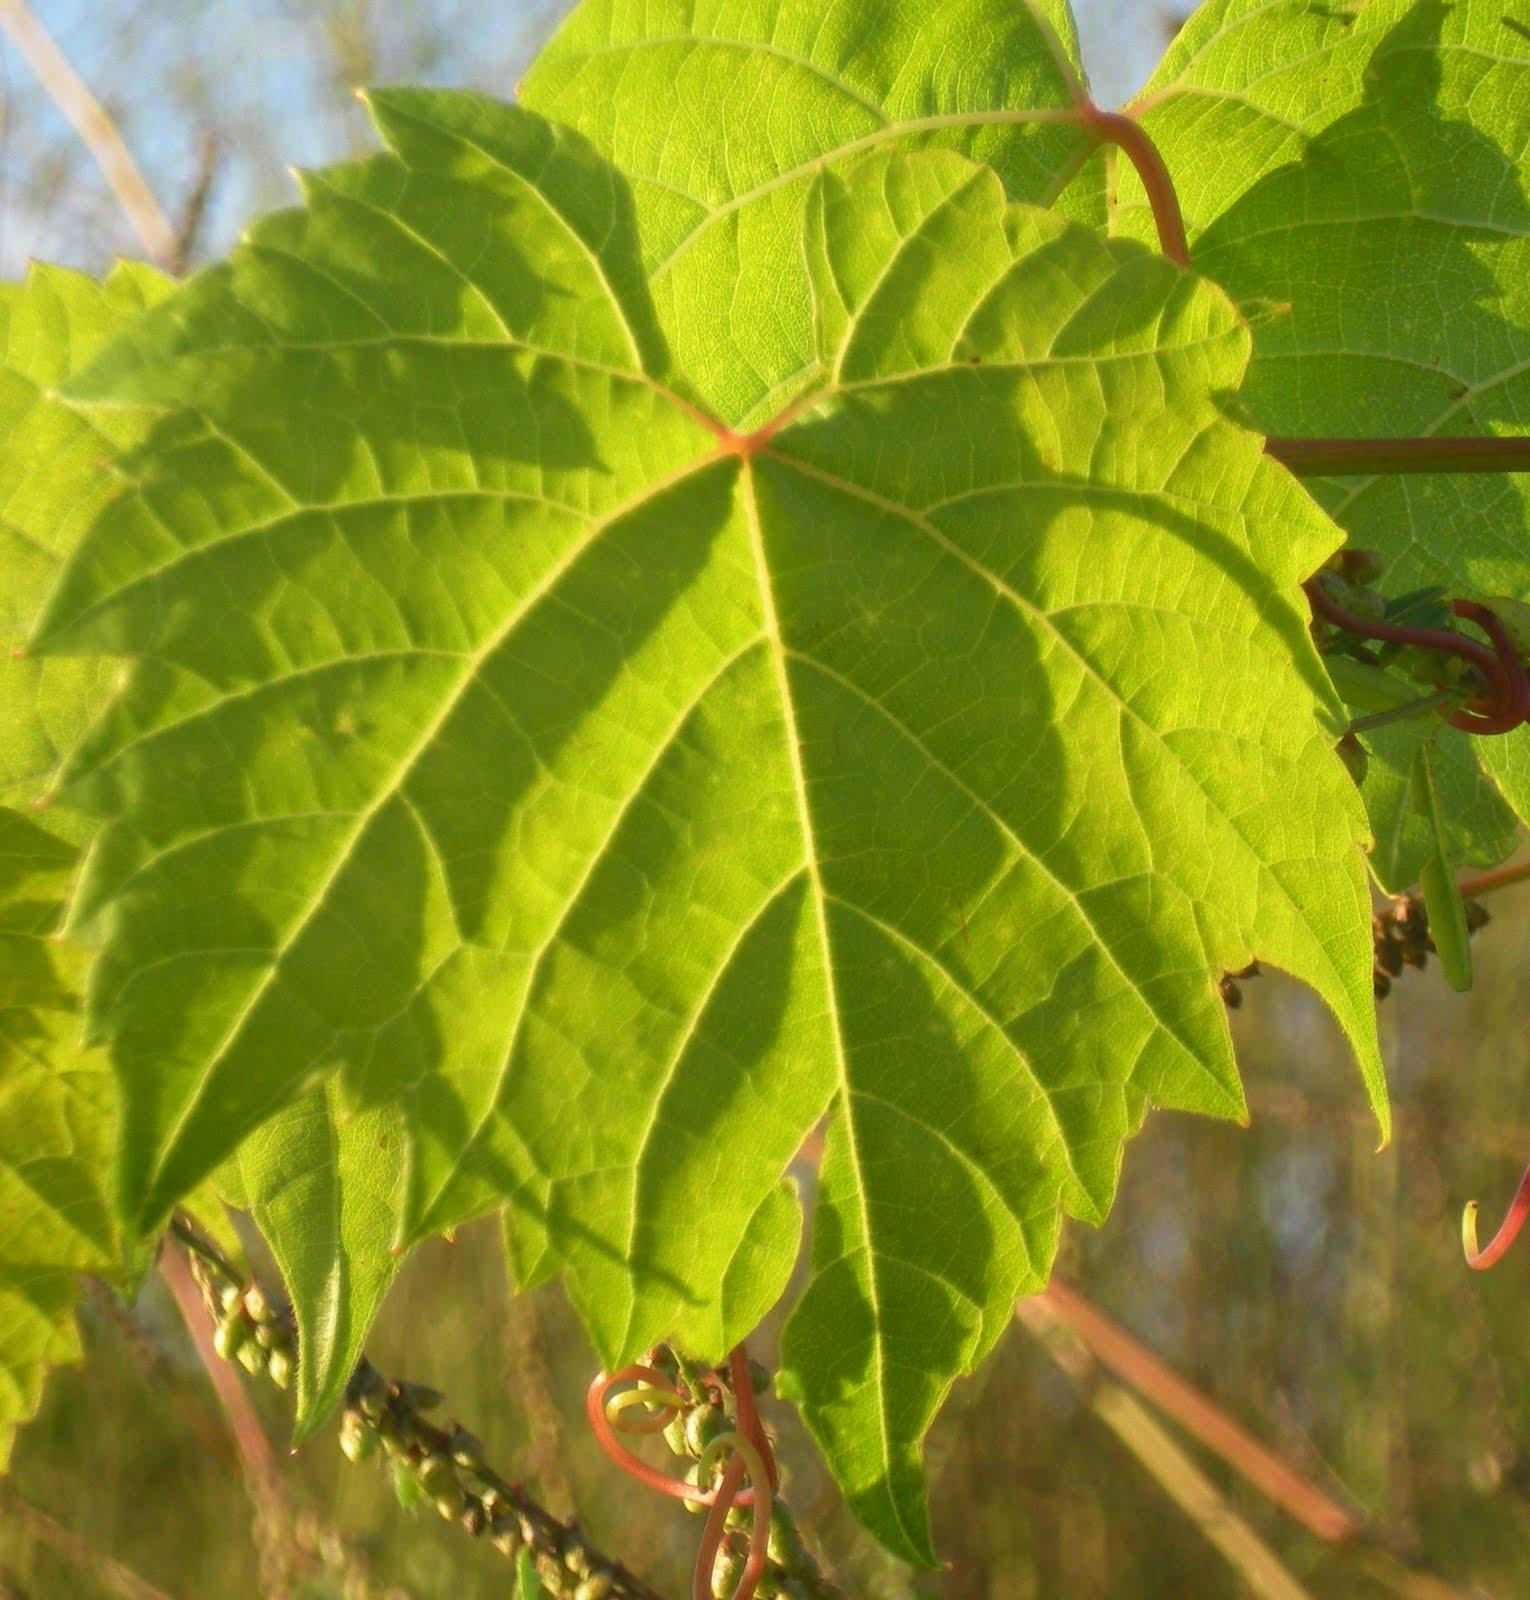grape leaf black rot: (67, 91, 1410, 1534)
